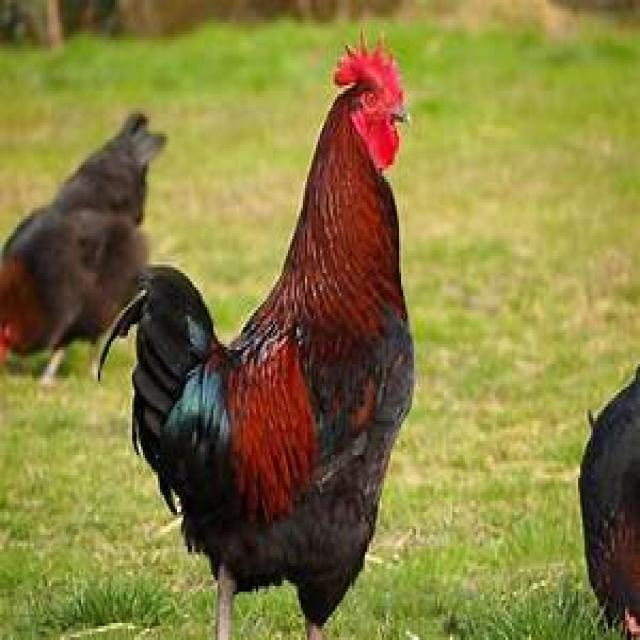hen: (115, 43, 416, 640), (0, 111, 169, 378), (578, 367, 640, 640)
